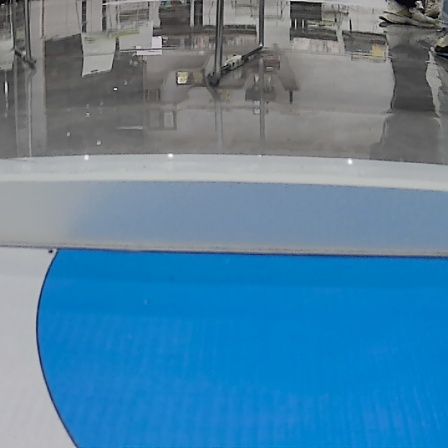blue_base: (35, 246, 448, 448)
